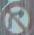Don't turn right: (2, 1, 33, 33)
